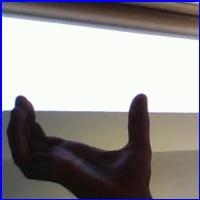space: (4, 73, 167, 194)
